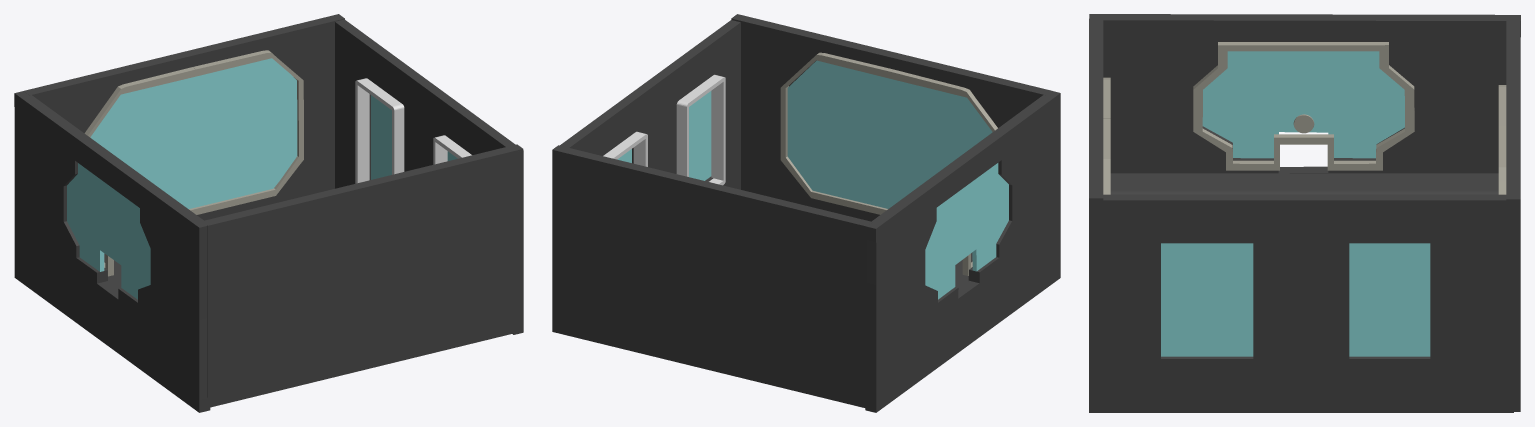
Rendered from OfficeMain.fbx.
The picture shows the model from 3 angles, left to right: view 1: azimuth 30°, elevation 25°; view 2: azimuth 150°, elevation 25°; view 3: azimuth 270°, elevation 25°; orthographic projection. The views are drawn at different scales.
Parts seen in each view (by area): view 1: Plane.005, Plane, Plane.003, Plane.007, Plane.004, Plane.001, Cube.002, Cube.003, Plane.002, Cube.004; view 2: Plane.007, Plane, Plane.006, Plane.005, Plane.004, Plane.001, Cube.001, Cube.004, Plane.002, Cube.003; view 3: Plane.004, Plane, Plane.002, Plane.001, Cube.005, Cube, Plane.007, Plane.005, Cube.002, Cube.001.
Boxes of the visible parts, x1=… form: Plane.005: x1=202, y1=144, x2=523, y2=407; Plane: x1=14, y1=91, x2=210, y2=412; Plane.003: x1=90, y1=58, x2=297, y2=209; Plane.007: x1=24, y1=14, x2=344, y2=220; Plane.004: x1=335, y1=19, x2=523, y2=334; Plane.001: x1=67, y1=163, x2=150, y2=299; Cube.002: x1=84, y1=50, x2=303, y2=214; Cube.003: x1=355, y1=78, x2=404, y2=183; Plane.002: x1=371, y1=95, x2=457, y2=179; Cube.004: x1=433, y1=135, x2=471, y2=164; Plane.007: x1=552, y1=145, x2=872, y2=408; Plane: x1=865, y1=91, x2=1060, y2=412; Plane.006: x1=787, y1=60, x2=992, y2=208; Plane.005: x1=731, y1=14, x2=1051, y2=221; Plane.004: x1=560, y1=20, x2=740, y2=189; Plane.001: x1=925, y1=163, x2=1008, y2=299; Cube.001: x1=780, y1=52, x2=997, y2=214; Cube.004: x1=676, y1=74, x2=725, y2=185; Plane.002: x1=617, y1=91, x2=711, y2=180; Cube.003: x1=603, y1=131, x2=647, y2=166; Plane.004: x1=1089, y1=194, x2=1513, y2=412; Plane: x1=1089, y1=14, x2=1520, y2=173; Plane.002: x1=1161, y1=243, x2=1430, y2=356; Plane.001: x1=1202, y1=51, x2=1404, y2=158; Cube.005: x1=1110, y1=173, x2=1498, y2=194; Cube: x1=1193, y1=42, x2=1414, y2=170; Plane.007: x1=1506, y1=19, x2=1520, y2=411; Plane.005: x1=1089, y1=18, x2=1103, y2=200; Cube.002: x1=1498, y1=85, x2=1506, y2=194; Cube.001: x1=1103, y1=77, x2=1110, y2=194.
Size of the model in its own units: 5298 by 2891 by 5235.
